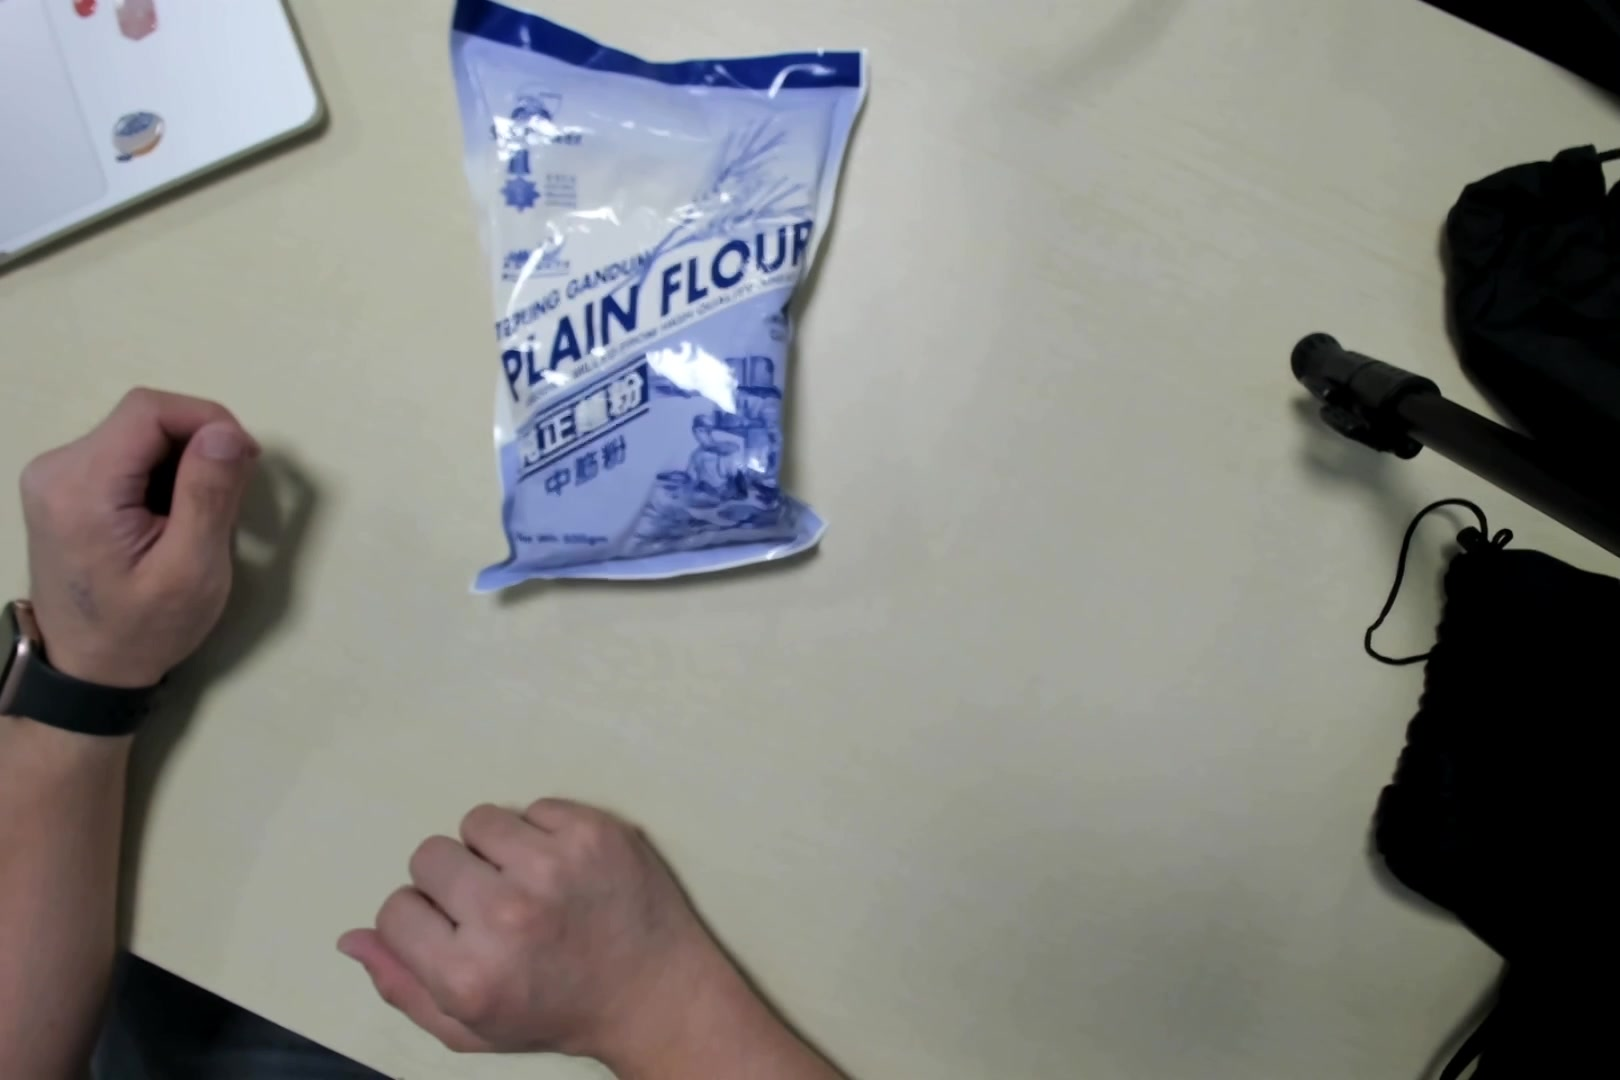Flour_500-599g_NonHalal_NonHealthy: (462, 2, 824, 580)
